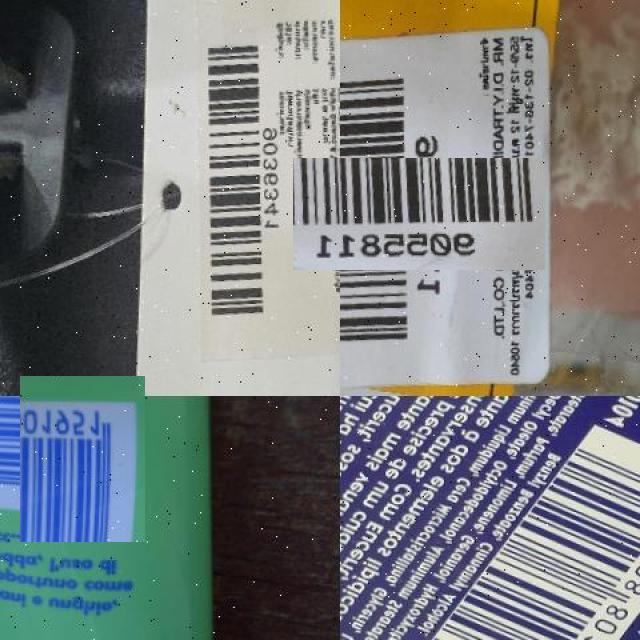Barcode: (419, 420, 640, 640), (294, 111, 499, 316), (191, 30, 293, 343), (10, 386, 156, 532)
